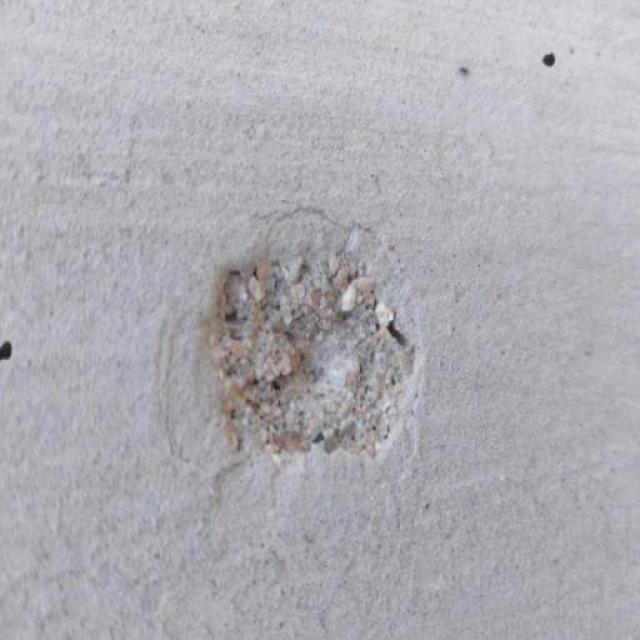D10: (206, 249, 419, 456)
